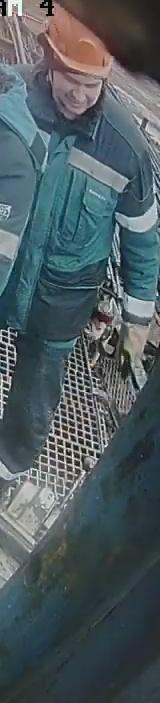gloves: (116, 310, 151, 388)
helmet: (41, 5, 119, 83)
vest: (0, 81, 159, 345)
